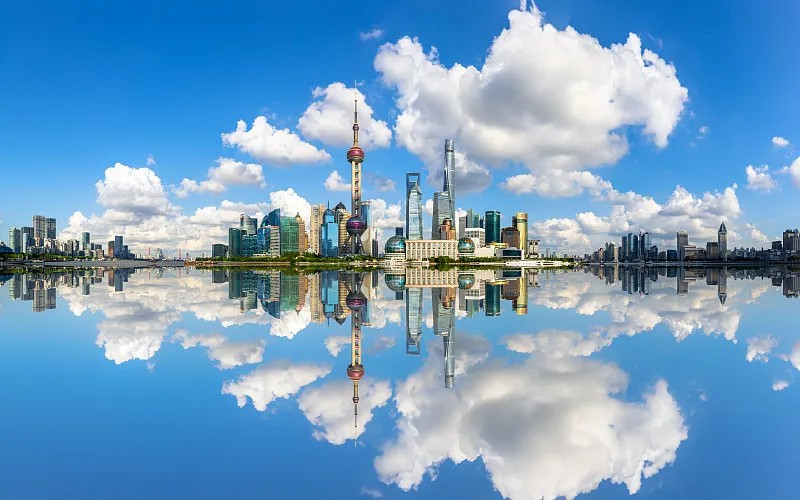Oriental: (338, 81, 368, 254)
